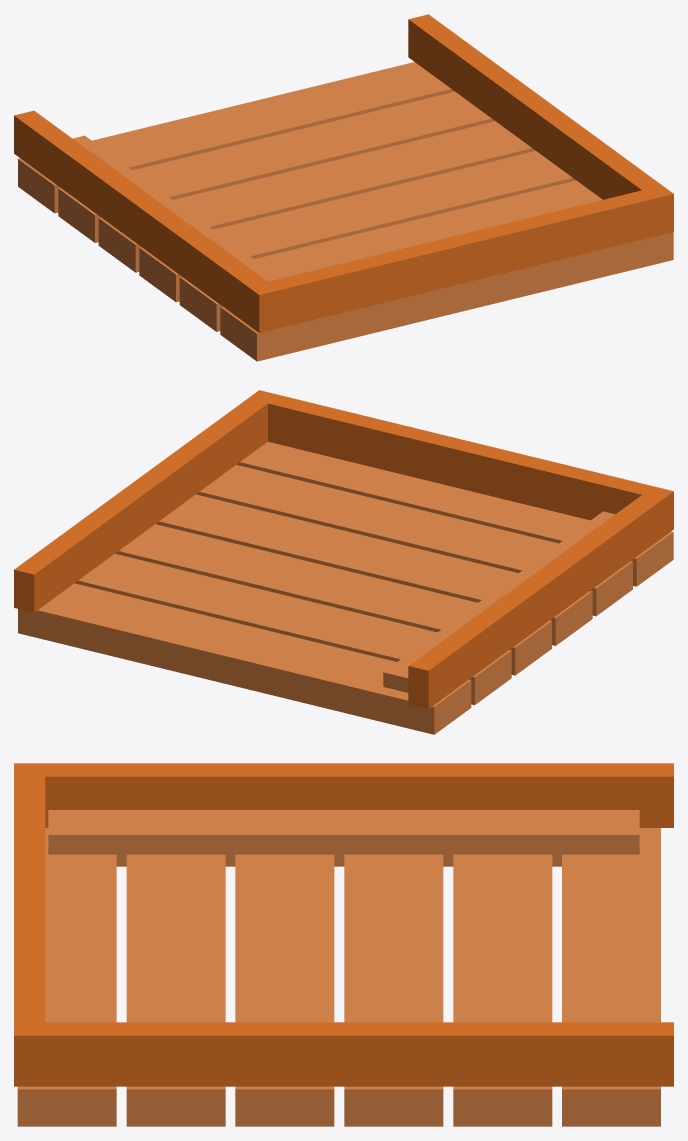
Rendered from Elevator.fbx.
The picture shows the model from 3 angles, top to bottom: view 1: azimuth 30°, elevation 25°; view 2: azimuth 150°, elevation 25°; view 3: azimuth 270°, elevation 25°; orthographic projection. The views are drawn at different scales.
Parts seen in each view (by area): view 1: Cube.001; view 2: Cube.001; view 3: Cube.001.
Part boxes in pixels (x1,y1,x2,y2): Cube.001: (14, 14, 673, 361); Cube.001: (14, 390, 673, 734); Cube.001: (14, 763, 673, 1126).
Bounding box in the file's own units: 182 × 28.13 × 186.
